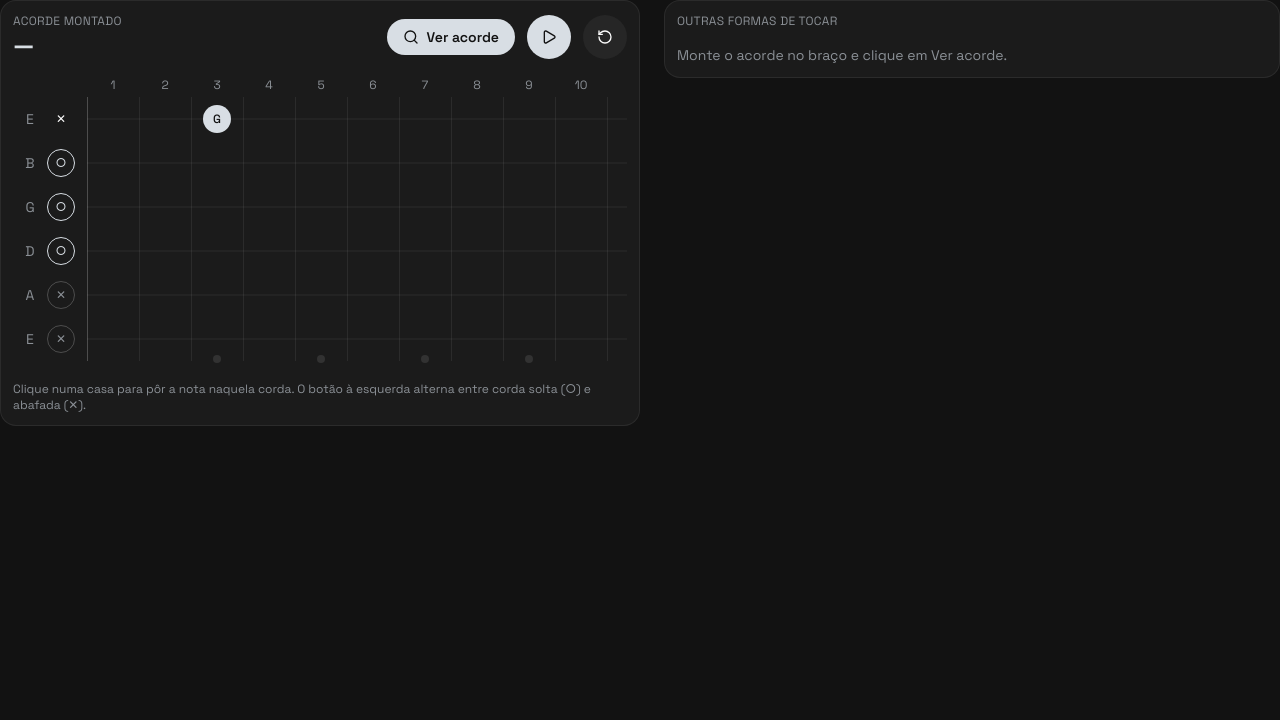
Test case: ChordPanel › says when a shape is an inversion, and which note is in the bass
Click the button "Ver acorde" at (451, 37), box [386,19,515,55]
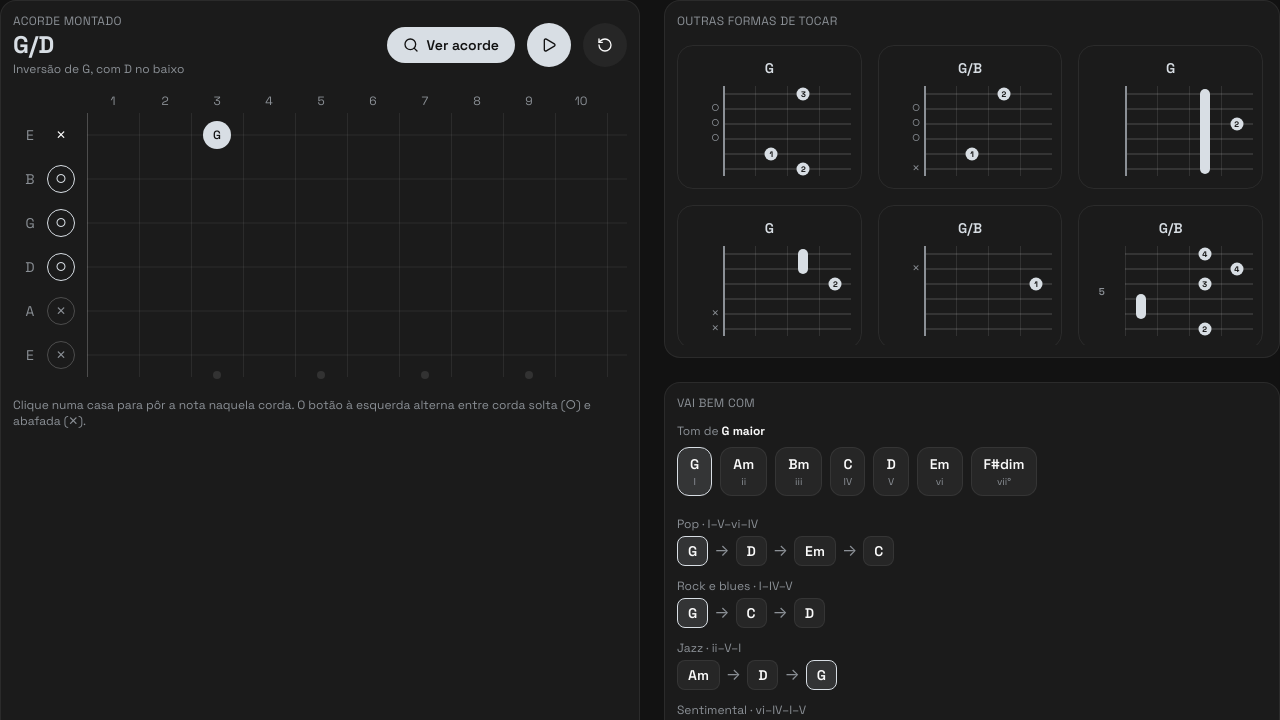
expect the text with test id "chord-name" reads "G/D": met, box [13,29,54,60]
expect the text "Inversão de G, com D no baixo" is shown: met, box [13,61,184,77]
